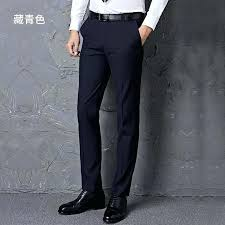F_belt: (80, 6, 151, 27)
F_dress pants: (73, 20, 144, 199)
